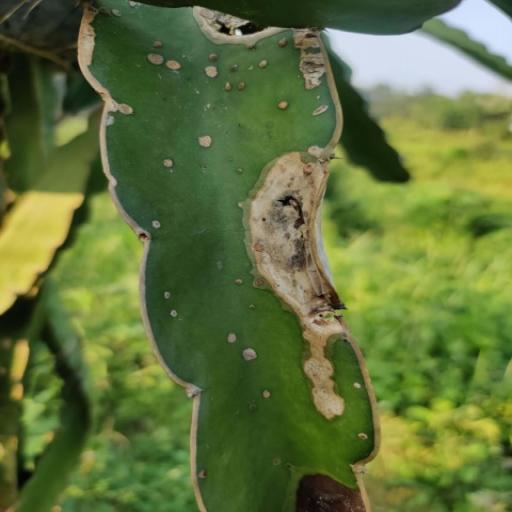stemcanker: (199, 61, 220, 81), (305, 139, 327, 158), (163, 56, 183, 75), (196, 133, 216, 151), (238, 346, 258, 363), (117, 102, 136, 118), (312, 104, 332, 118), (355, 426, 370, 444), (205, 51, 225, 64), (146, 54, 167, 66), (220, 78, 235, 94), (276, 99, 292, 113), (260, 387, 276, 401), (224, 330, 239, 344), (196, 466, 210, 481), (110, 8, 128, 19), (236, 80, 250, 94), (270, 455, 284, 468), (278, 36, 290, 51), (255, 60, 271, 71), (163, 158, 177, 170), (229, 61, 242, 73), (163, 288, 176, 300), (350, 380, 364, 391), (125, 1, 143, 9), (154, 39, 166, 50), (150, 219, 162, 230), (247, 64, 256, 75), (235, 277, 246, 286), (315, 94, 327, 102), (169, 310, 179, 318)
